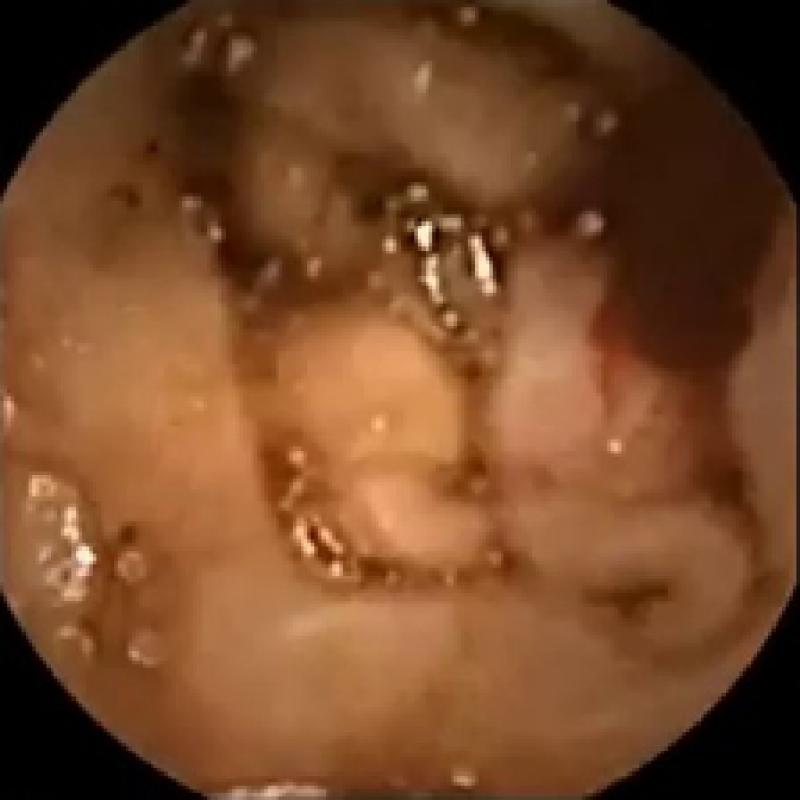bleeding: (164, 0, 767, 364)
